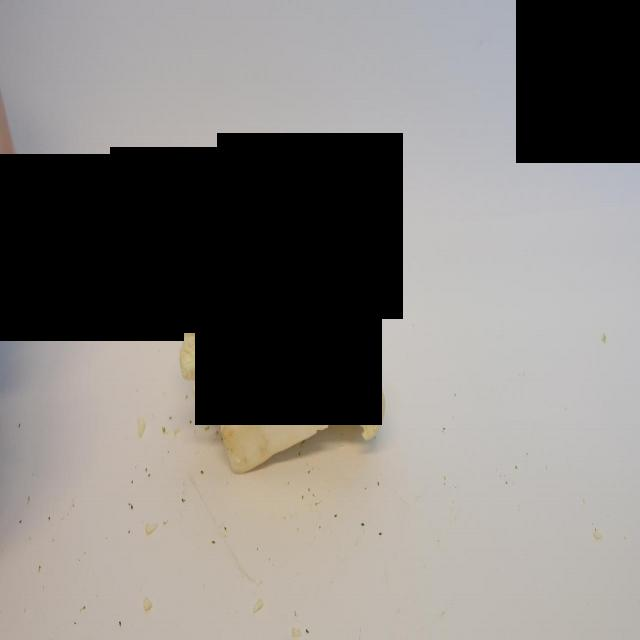cauliflower: (179, 226, 385, 466)
